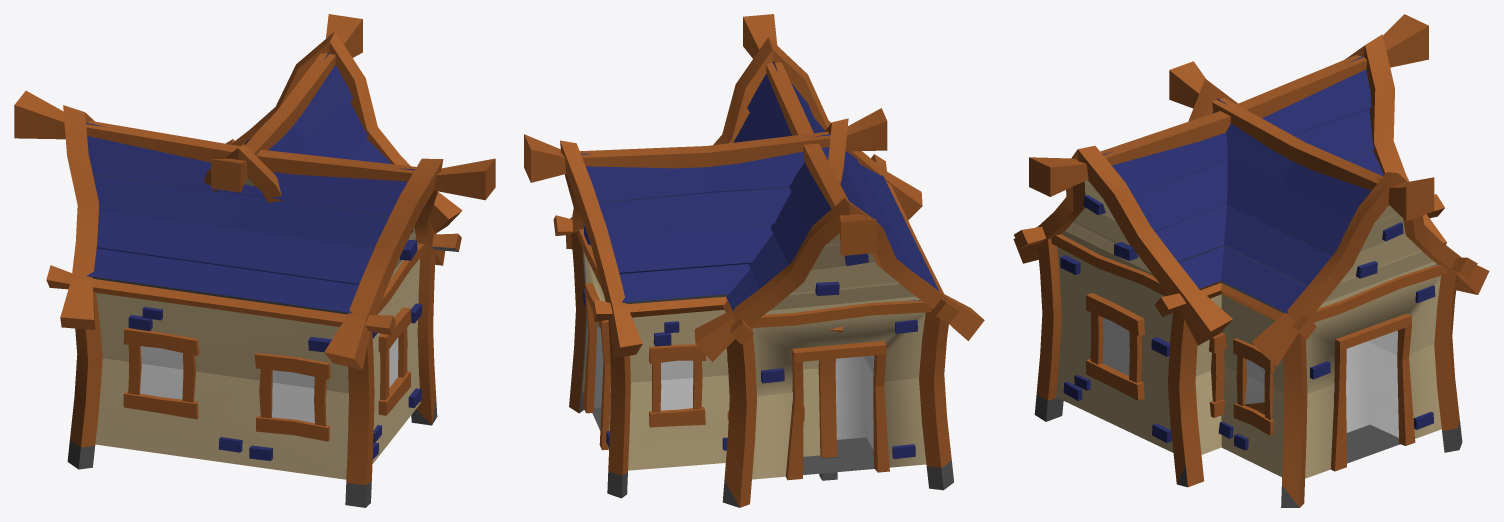
File: Maison1.fbx
3 views of the same model, side by side, from view 1: azimuth 30°, elevation 25°; view 2: azimuth 150°, elevation 25°; view 3: azimuth 270°, elevation 25° (orthographic).
Visible parts, largest first — view 1: defaultMaterial.020, defaultMaterial.009; view 2: defaultMaterial.020, defaultMaterial.009; view 3: defaultMaterial.009, defaultMaterial.020.
Part boxes in pixels (<box>): defaultMaterial.020: <box>14,90,495,507</box>; defaultMaterial.009: <box>203,14,462,233</box>; defaultMaterial.020: <box>694,14,984,507</box>; defaultMaterial.009: <box>524,108,887,498</box>; defaultMaterial.009: <box>1169,61,1489,507</box>; defaultMaterial.020: <box>1013,14,1446,487</box>.
Bounding box in the file's own units: 1719 × 1257 × 1702.
